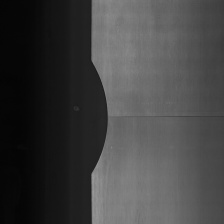crescent_gap: (86, 57, 110, 175), (101, 109, 224, 129)
